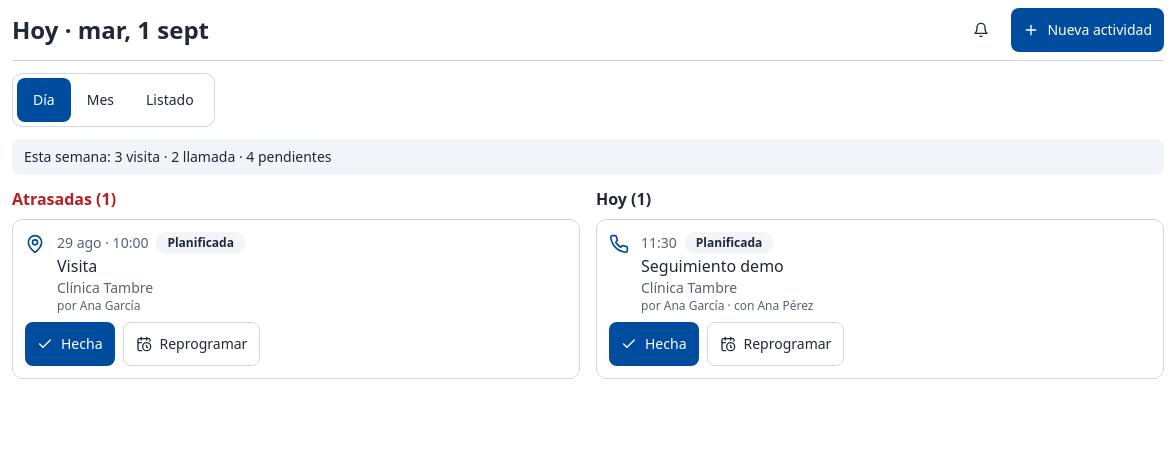
Test: Hoy view switcher › offers Día, Mes and Listado without changing route
Click the radio button labelled "Listado": point(170, 100) left=146, top=90, right=194, bottom=109
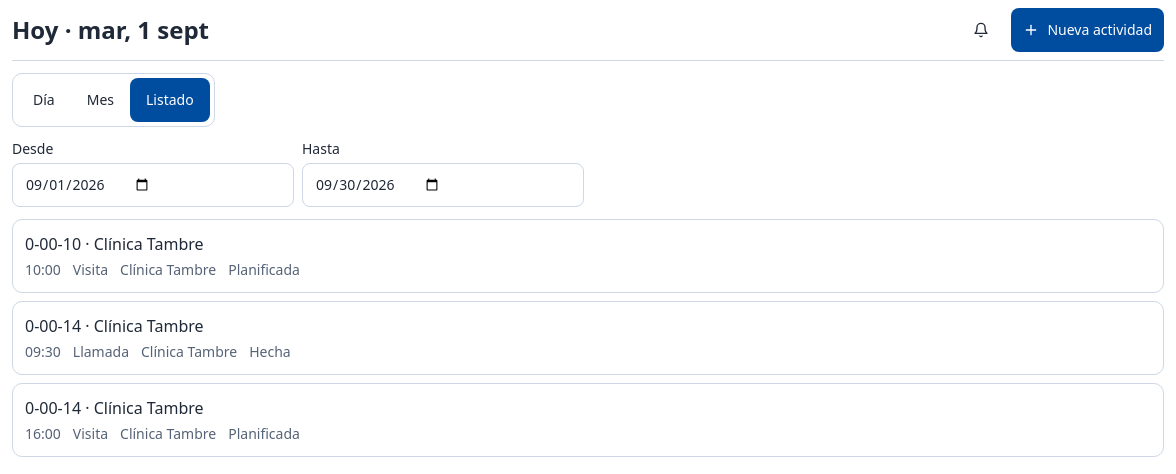
Check: the date field labelled "Desde" is shown, box left=12, top=163, right=294, bottom=207
